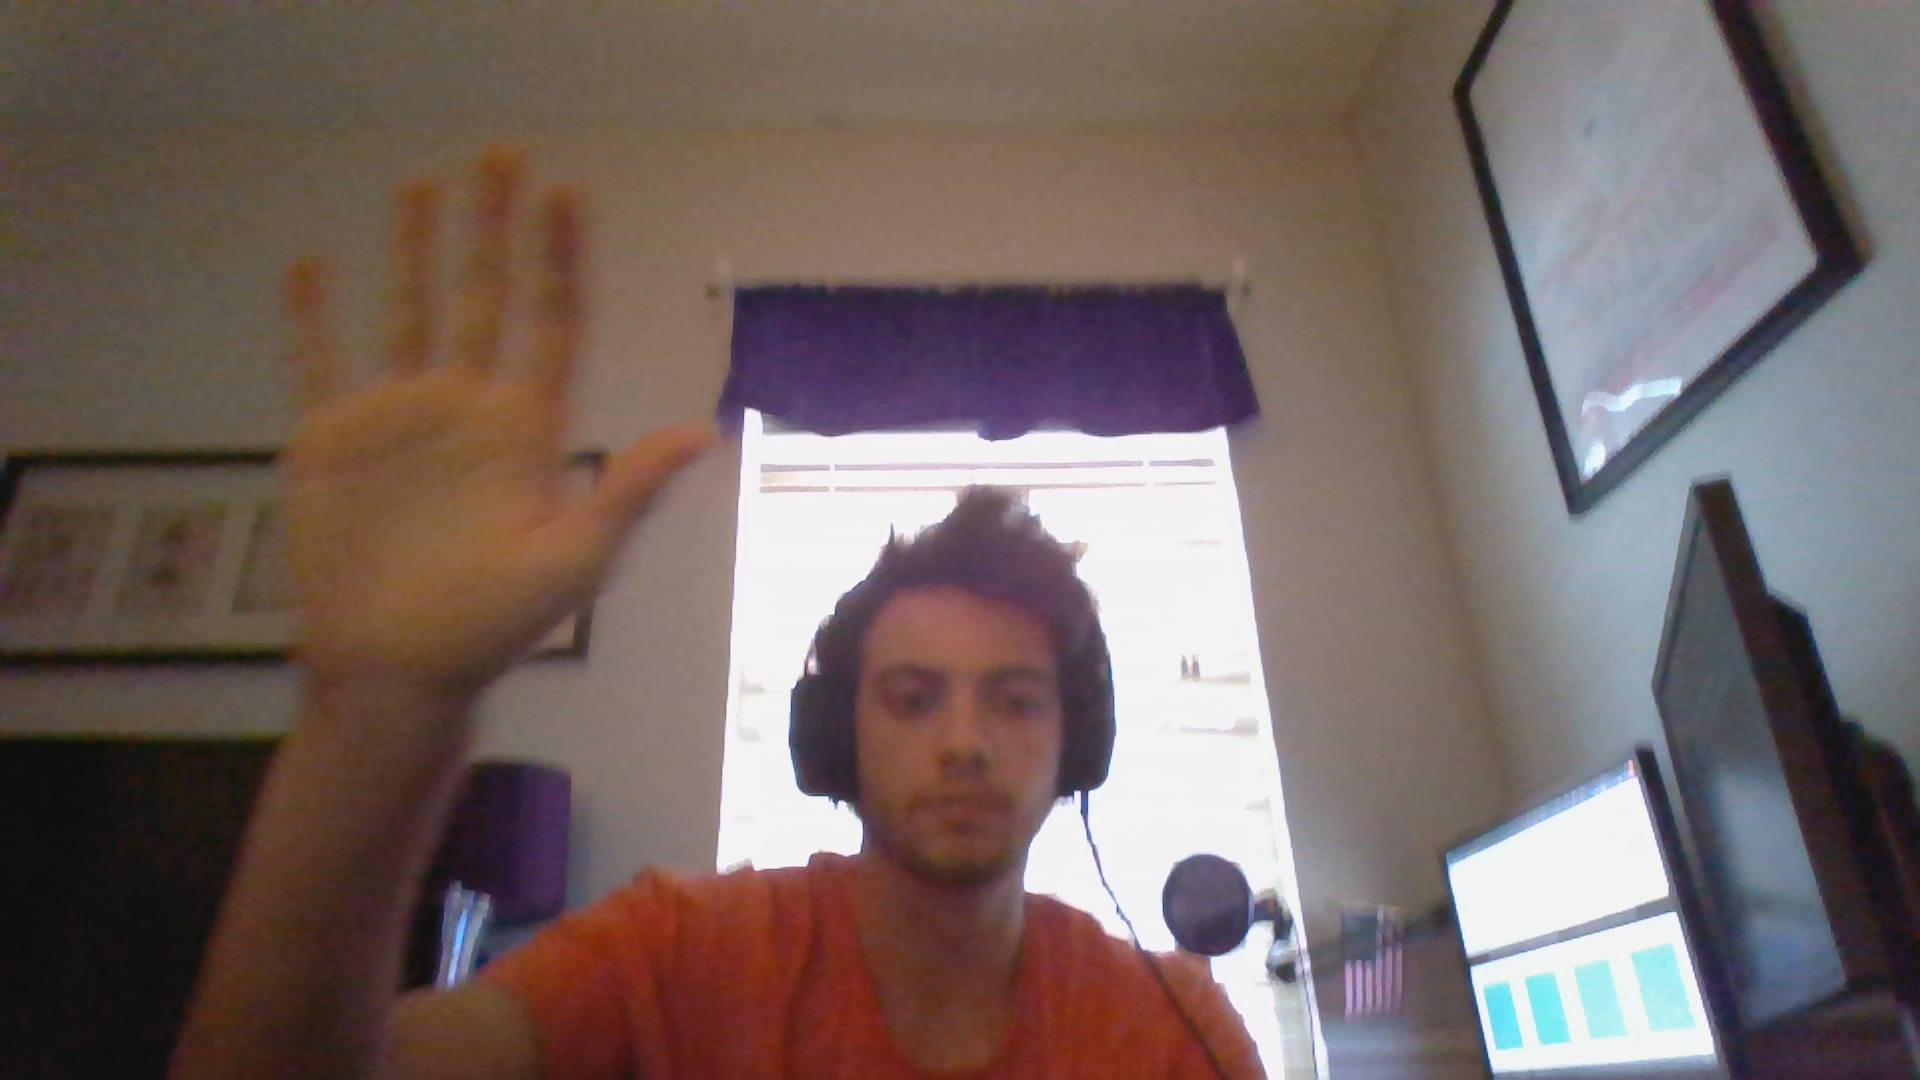Right Palm Up: (251, 137, 731, 698)
